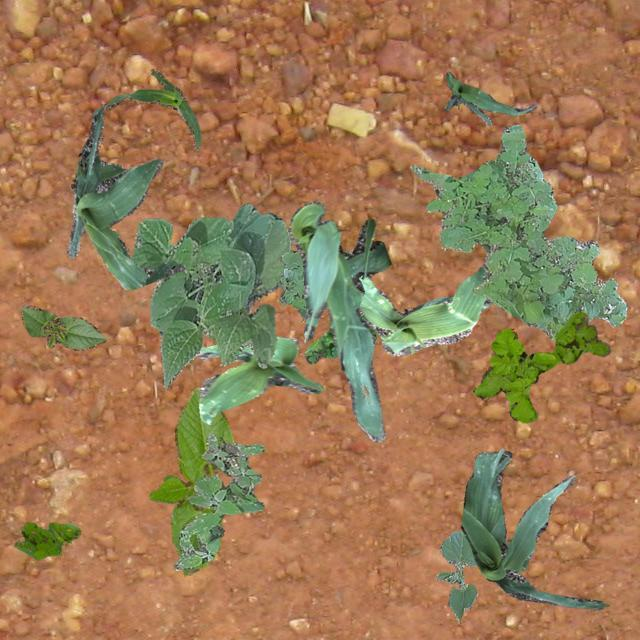crop: (130, 202, 290, 388), (288, 198, 390, 440), (459, 448, 606, 608), (66, 106, 185, 288), (148, 387, 234, 576), (342, 250, 491, 354), (195, 336, 322, 422), (100, 68, 200, 148), (444, 70, 534, 124), (434, 530, 476, 620), (20, 304, 104, 349)
weed: (408, 124, 626, 342), (472, 310, 610, 422), (172, 432, 264, 568), (304, 322, 376, 362), (14, 520, 80, 558), (278, 250, 306, 320)
